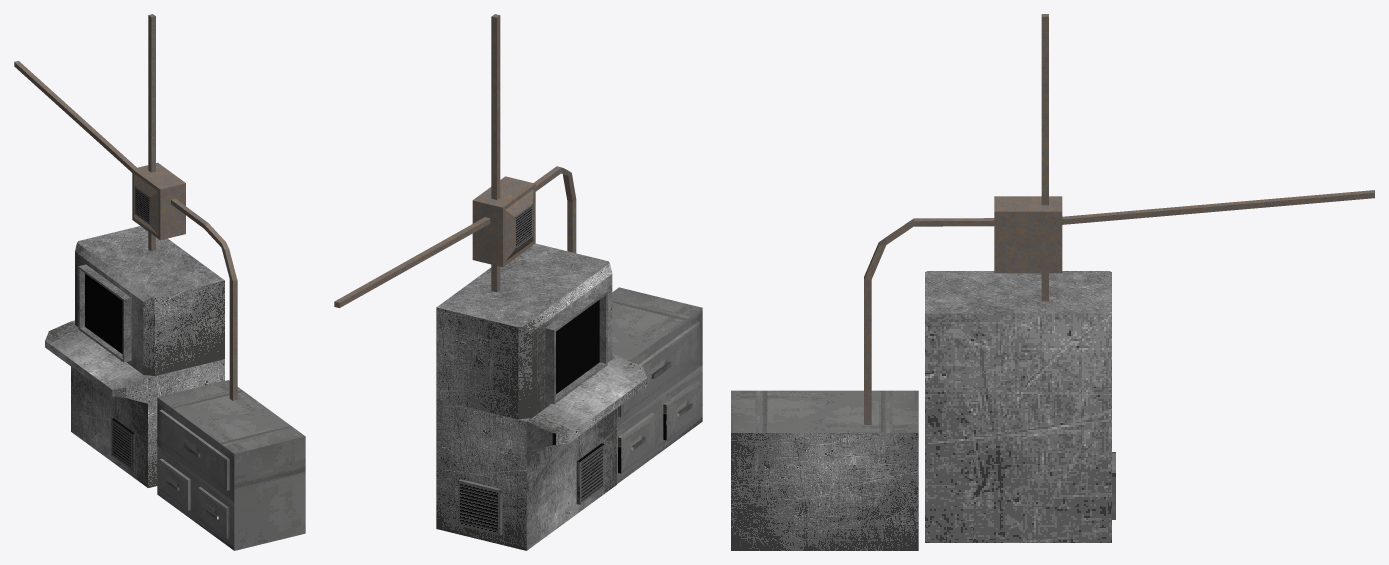
File: new_terminal.glb
3 views of the same model, side by side, from view 1: azimuth 30°, elevation 25°; view 2: azimuth 150°, elevation 25°; view 3: azimuth 270°, elevation 25° (orthographic). The views are drawn at different scales.
Visible parts, largest first — view 1: body, dresser, cables, frame, cables.001; view 2: body, dresser, cables, frame, cables.001; view 3: body, dresser, cables.
Boxes of the visible parts, x1,y1,x2,y2 form: body: [45, 226, 224, 487]; dresser: [157, 380, 305, 550]; cables: [14, 14, 237, 400]; frame: [78, 264, 131, 362]; cables.001: [134, 186, 149, 224]; body: [436, 243, 647, 550]; dresser: [612, 287, 702, 483]; cables: [334, 14, 576, 307]; frame: [545, 289, 607, 404]; cables.001: [515, 204, 532, 249]; body: [925, 271, 1115, 542]; dresser: [731, 390, 918, 550]; cables: [864, 14, 1374, 424].
Size of the model in its own units: 0.7646 by 2.88 by 3.22.
Materials: 2 (2 with a texture image).
